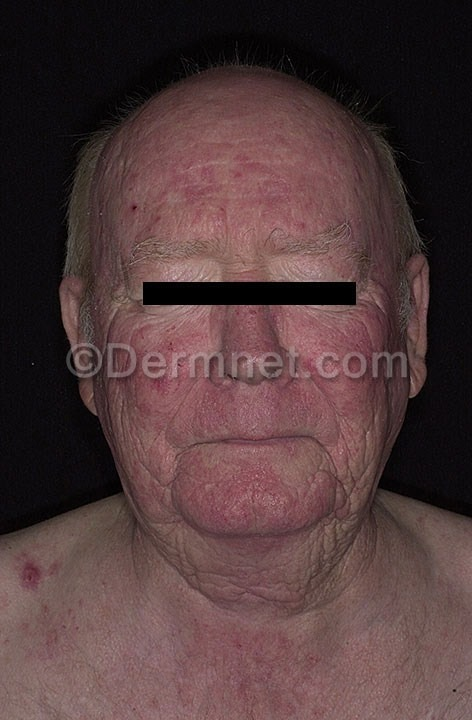Melasma: (123, 108, 350, 235), (121, 381, 382, 434), (119, 307, 391, 349)
